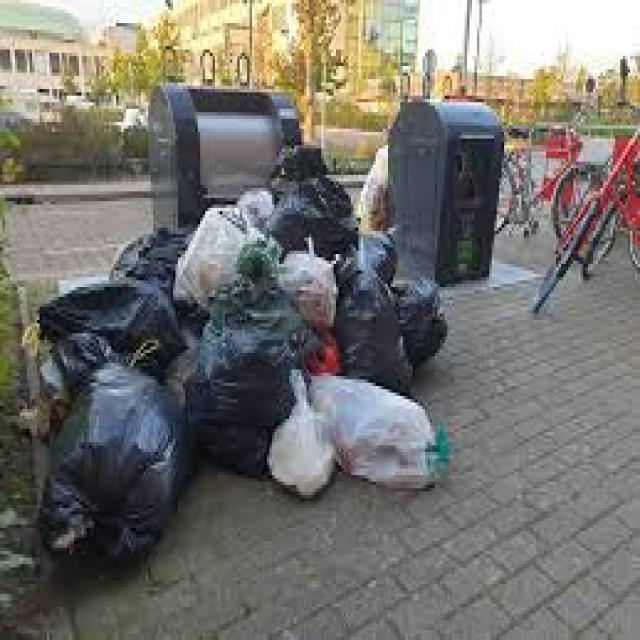garbage: (187, 216, 460, 507), (13, 275, 188, 584), (276, 145, 354, 215), (108, 223, 186, 274), (356, 141, 391, 232), (212, 191, 274, 211)
